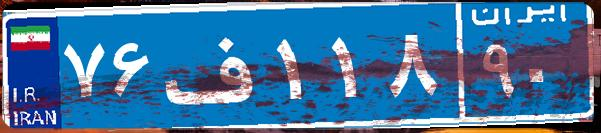0: (525, 38, 570, 115)
1: (273, 28, 330, 110), (330, 28, 385, 110)
6: (110, 28, 158, 105)
7: (57, 26, 110, 107)
8: (385, 28, 445, 110)
9: (475, 38, 525, 113)
ف: (158, 15, 273, 115)
